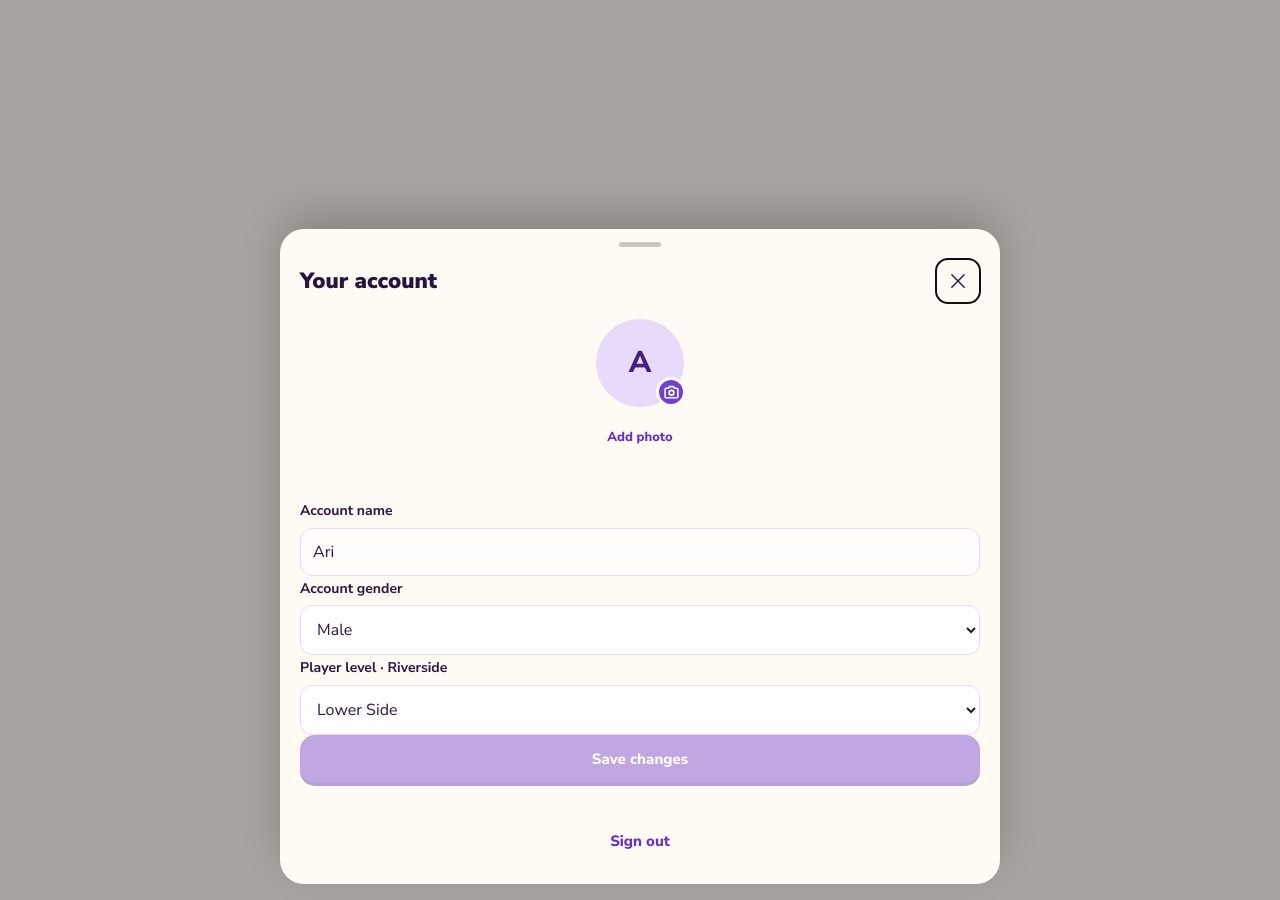
it: uses the server-normalized side for confirmed UI state
Select "Lower Side" in the dropdown named "Player level": (640, 710) [300,685,980,735]
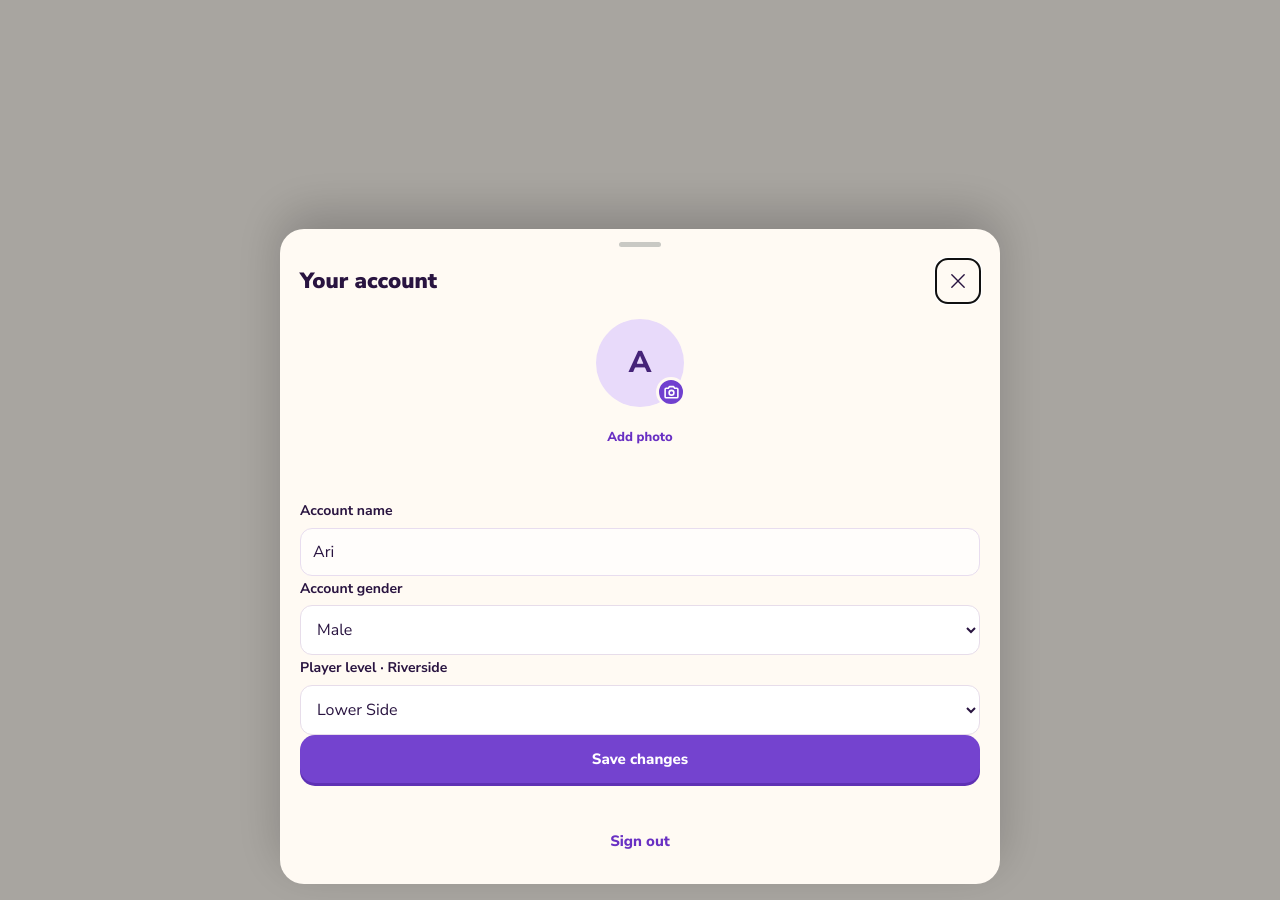
Click the button "Save changes": (640, 759) [300,735,980,783]
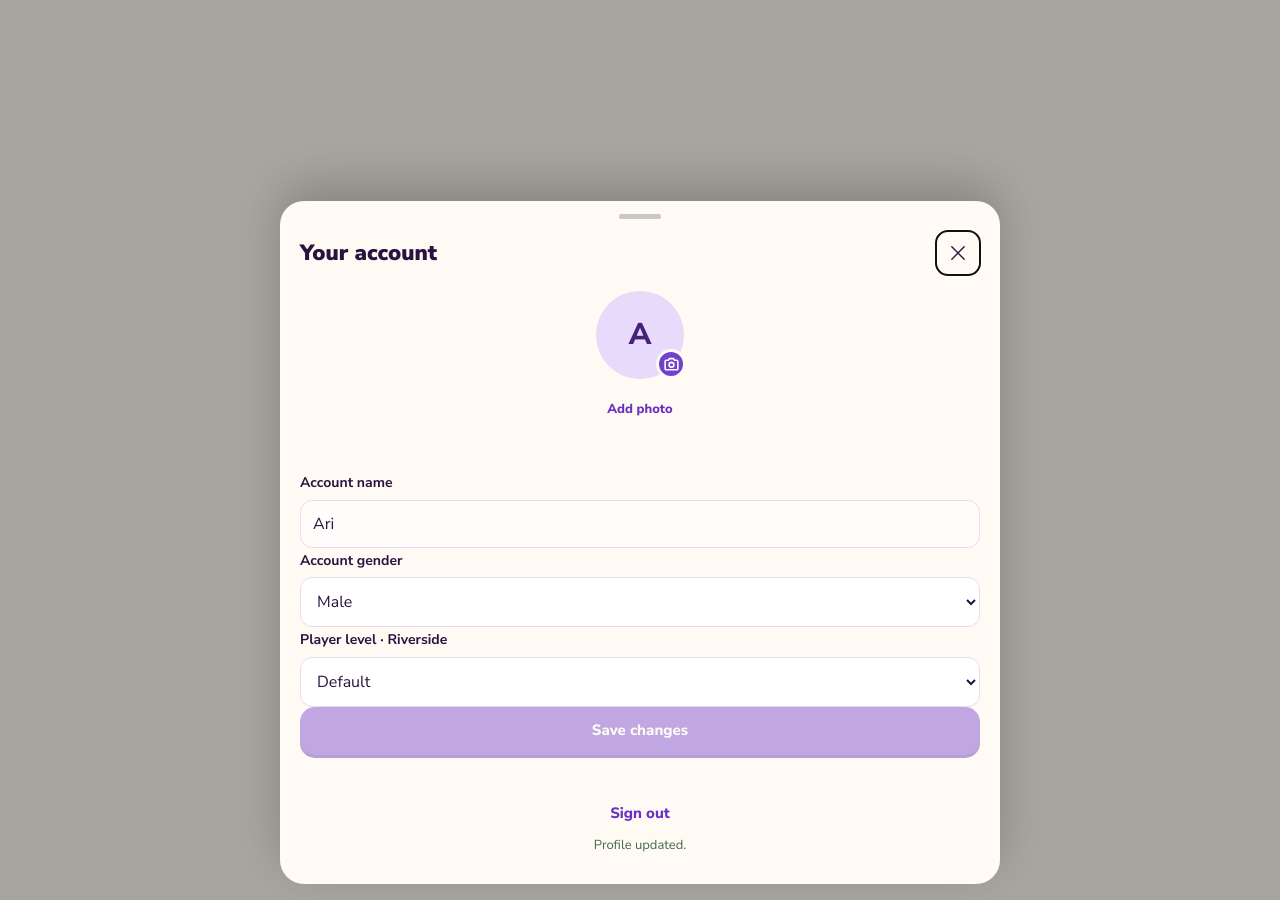
Expected: the button "Save changes" is disabled, [300,707,980,755]
